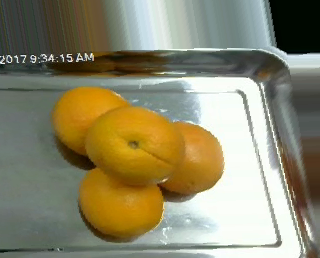Orange: (83, 105, 184, 185), (79, 164, 164, 238), (51, 85, 134, 157), (150, 121, 225, 197)
